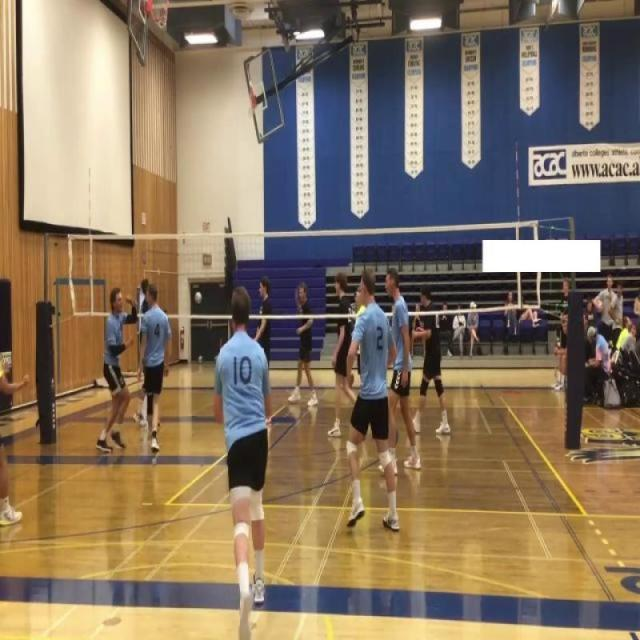volleyball: (195, 291, 202, 304), (198, 356, 204, 364), (214, 356, 218, 364)
